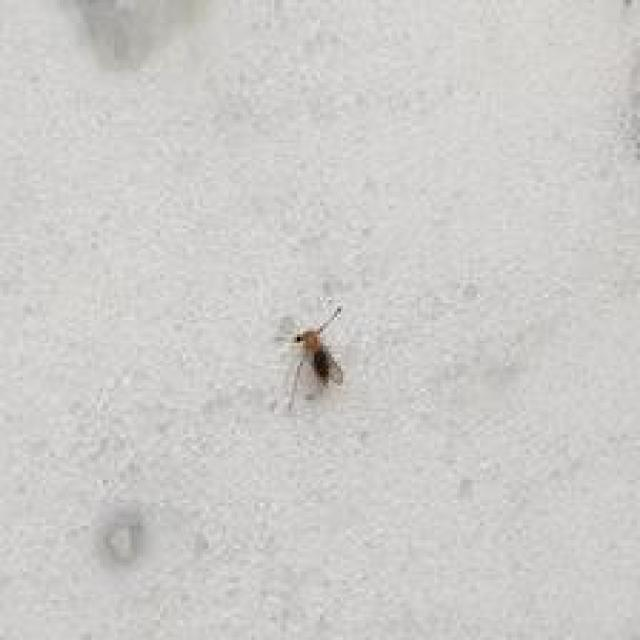Culex: (277, 304, 346, 413)
